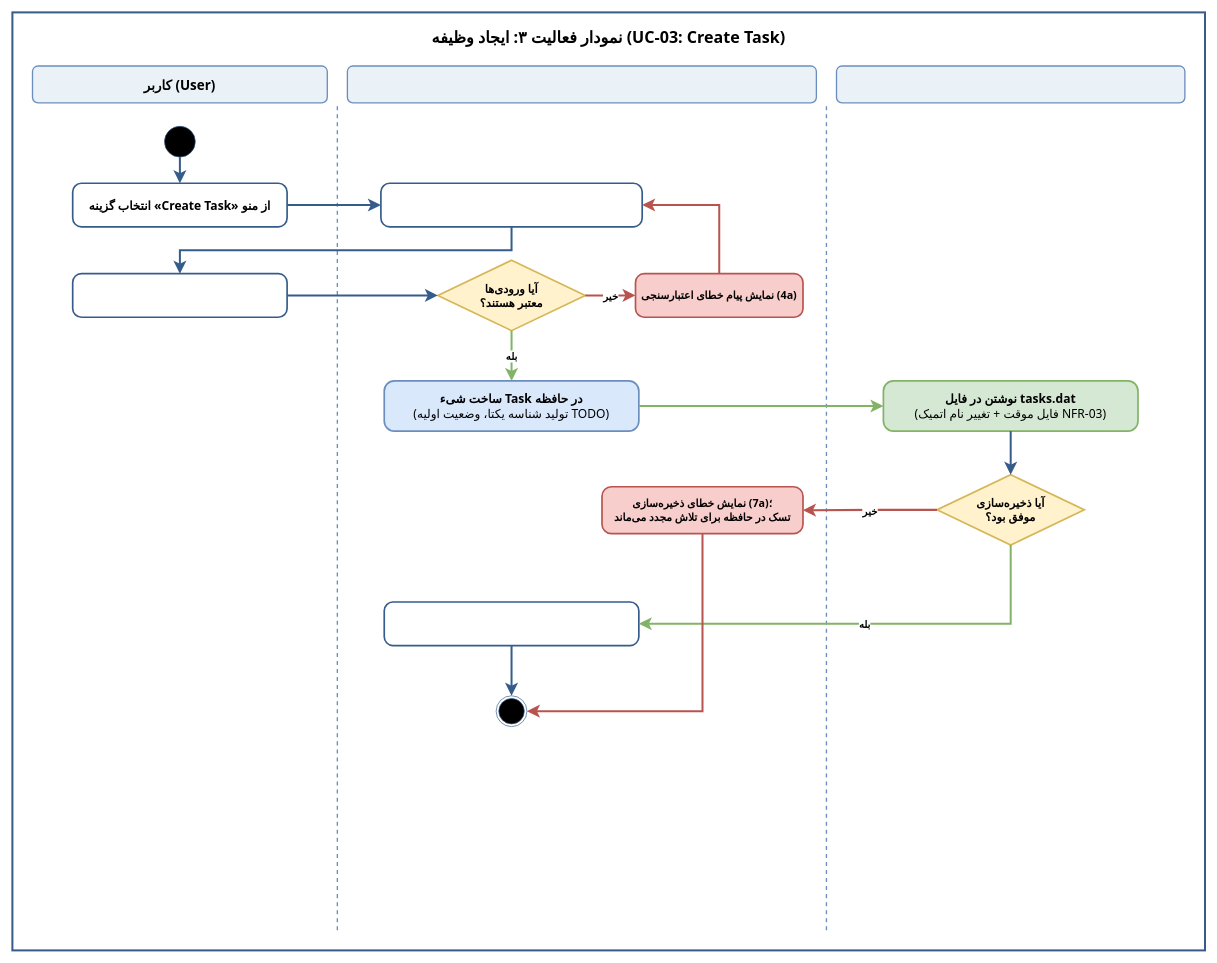
This 1217x963 diagram has some shape labels left out. The shapes that lost their labels are listed below. From the top down, each one's centre as x and y in pixels, then its label:
the point at 581,84: سامانه (ConsoleUI & TaskService)
the point at 1010,84: سیستم فایل (FileTaskRepository - tasks.dat)
the point at 511,204: درخواست عنوان (اجباری)، توضیحات، تاریخ سررسید، اولویت، دسته‌بندی و تگ‌ها
the point at 180,295: وارد کردن اطلاعات وظیفه توسط کاربر
the point at 511,623: چاپ پیام تأیید همراه با شناسه جدید تسک
